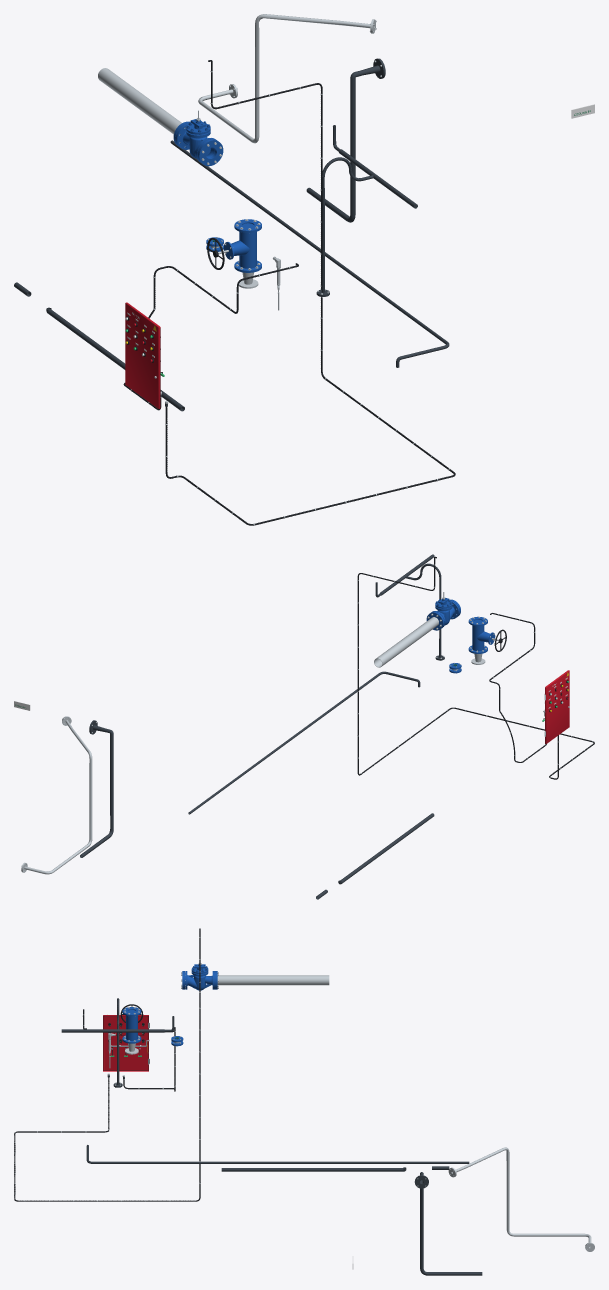
Rendered from s4000-4-CtLCm4dj.glb.
3 renders of one model, top to bottom at view 1: azimuth 30°, elevation 25°; view 2: azimuth 150°, elevation 25°; view 3: azimuth 270°, elevation 25°, orthographic. The views are drawn at different scales.
Parts seen in each view (by area): view 1: cabinet_door / cabinet_door_5.npz, gpz_drive_cable / black, trap_gap_to_bdv / steel, tds_common / dark, bottom_to_bdv / dark, steam_delivery / steel, pressure_header / dark, steam_manual / blue, gpz CAD solid 0, bottom_piping / dark, wiring_lcs600 / black; view 2: cabinet_door / cabinet_door_5.npz, gpz_drive_cable / black, trap_gap_to_bdv / steel, tds_common / dark, steam_delivery / steel, bottom_to_bdv / dark, steam_manual / blue, pressure_header / dark, bottom_piping / dark, wiring_lcs600 / black, gpz CAD solid 0; view 3: cabinet_door / cabinet_door_5.npz, gpz_drive_cable / black, steam_delivery / steel, tds_common / dark, trap_gap_to_bdv / steel, pressure_header / dark, bottom_to_bdv / dark, bottom_piping / dark, gpz CAD solid 0, steam_manual / blue.
Boxes of the visible parts, x1,y1,x2,y2 form: cabinet_door / cabinet_door_5.npz: (125, 302, 160, 408); gpz_drive_cable / black: (165, 60, 455, 525); trap_gap_to_bdv / steel: (198, 14, 376, 143); tds_common / dark: (170, 140, 449, 367); bottom_to_bdv / dark: (306, 58, 385, 222); steam_delivery / steel: (98, 68, 181, 134); pressure_header / dark: (316, 125, 417, 296); steam_manual / blue: (224, 219, 261, 272); gpz CAD solid 0: (175, 110, 215, 161); bottom_piping / dark: (46, 307, 184, 411); wiring_lcs600 / black: (123, 263, 298, 410); cabinet_door / cabinet_door_5.npz: (544, 670, 569, 743); gpz_drive_cable / black: (357, 556, 594, 779); trap_gap_to_bdv / steel: (21, 716, 92, 874); tds_common / dark: (188, 671, 420, 814); steam_delivery / steel: (374, 617, 438, 667); bottom_to_bdv / dark: (80, 720, 113, 857); steam_manual / blue: (468, 616, 495, 653); pressure_header / dark: (375, 554, 444, 660); bottom_piping / dark: (338, 813, 434, 884); wiring_lcs600 / black: (489, 613, 546, 762); gpz CAD solid 0: (431, 592, 459, 626); cabinet_door / cabinet_door_5.npz: (103, 1015, 149, 1071); gpz_drive_cable / black: (14, 928, 200, 1201); steam_delivery / steel: (217, 975, 329, 985); tds_common / dark: (86, 1145, 469, 1163); trap_gap_to_bdv / steel: (448, 1147, 594, 1251); pressure_header / dark: (61, 998, 174, 1087); bottom_to_bdv / dark: (414, 1172, 482, 1275); bottom_piping / dark: (221, 1167, 406, 1171); gpz CAD solid 0: (185, 963, 214, 990); steam_manual / blue: (122, 1007, 141, 1043).
Size of the model in its own units: 5.7 by 3.15 by 6.74.
